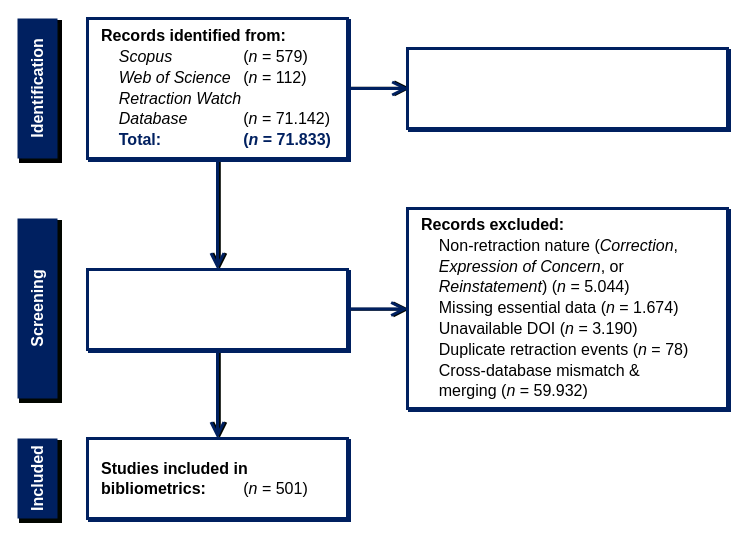
This 748x540 diagram has some shape labels left out. The shapes that lost their labels are listed below. From the top down, each one's box as (x1, y1, x2, y2) in pixels, then its label:
(406, 46, 728, 130): Records removed before screening : Duplicate records removed ( n = 1.414)
(86, 268, 348, 350): Records screened: ( n = 70.419)
